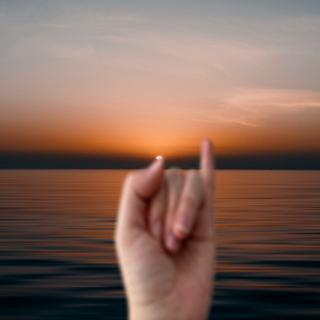Fine: (104, 135, 227, 315)
